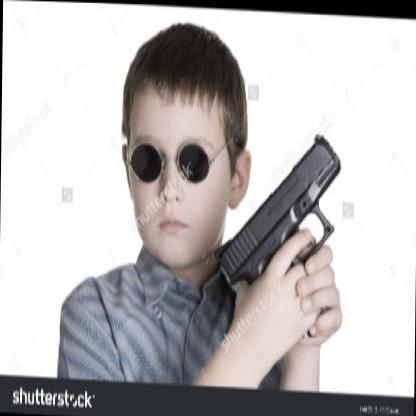pistol: (209, 122, 342, 336)
